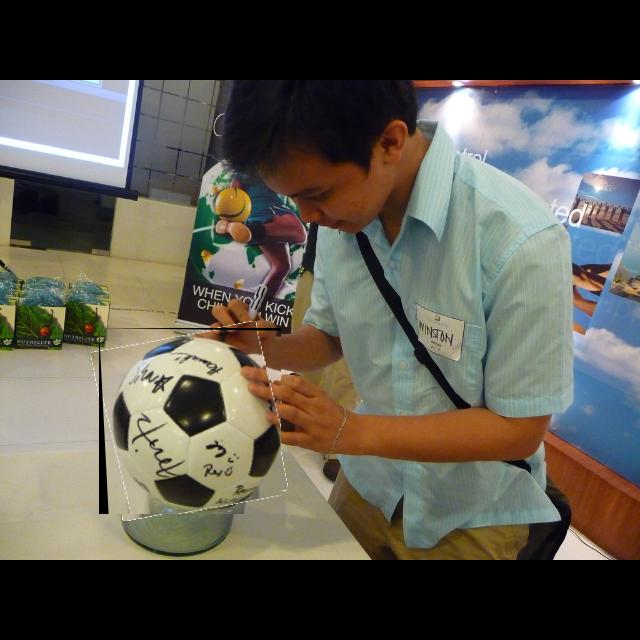Football: (99, 328, 281, 514)
